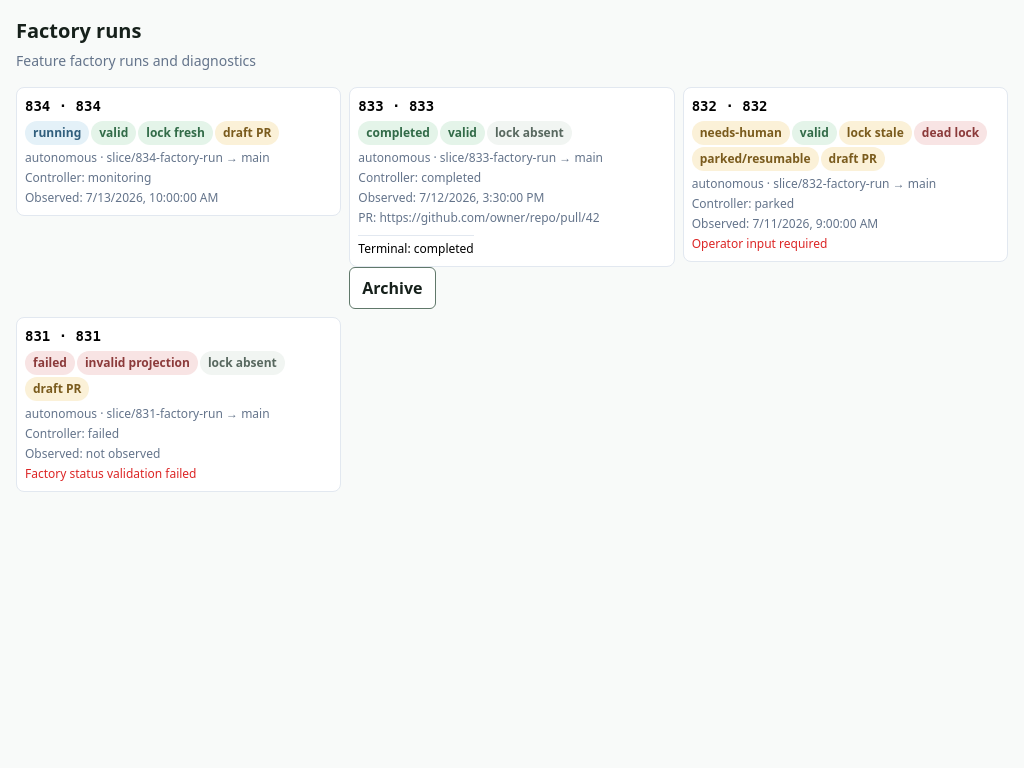
Test: FactoryRunsRoute › names the run in the archive dialog and cancels without a request
This screenshot has width=1024, height=768.
What coordinates should you click on to do the following:
click the button with aria-label "Archive run 833"
I would click on:
 (392, 288)
Its box is [349, 267, 436, 309].
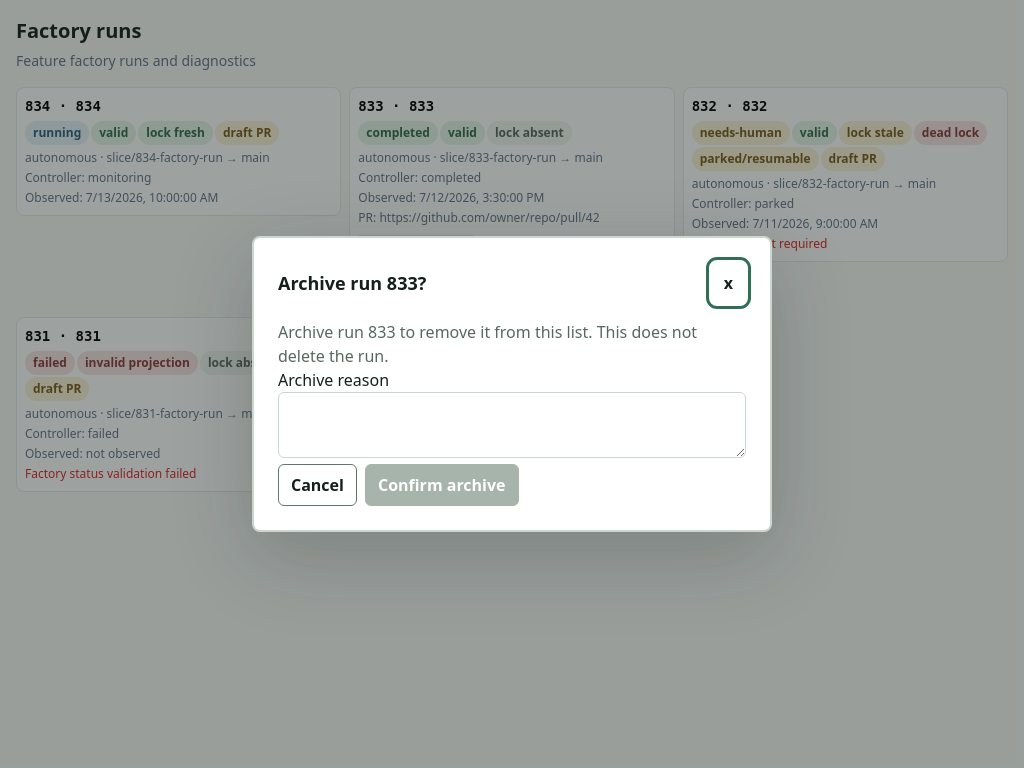
Now the text "does not delete the run" is shown, box [278, 321, 697, 367]
What coordinates should you click on to do the following:
click the button "Cancel"
I would click on:
 (317, 485)
Its box is [278, 464, 357, 506].
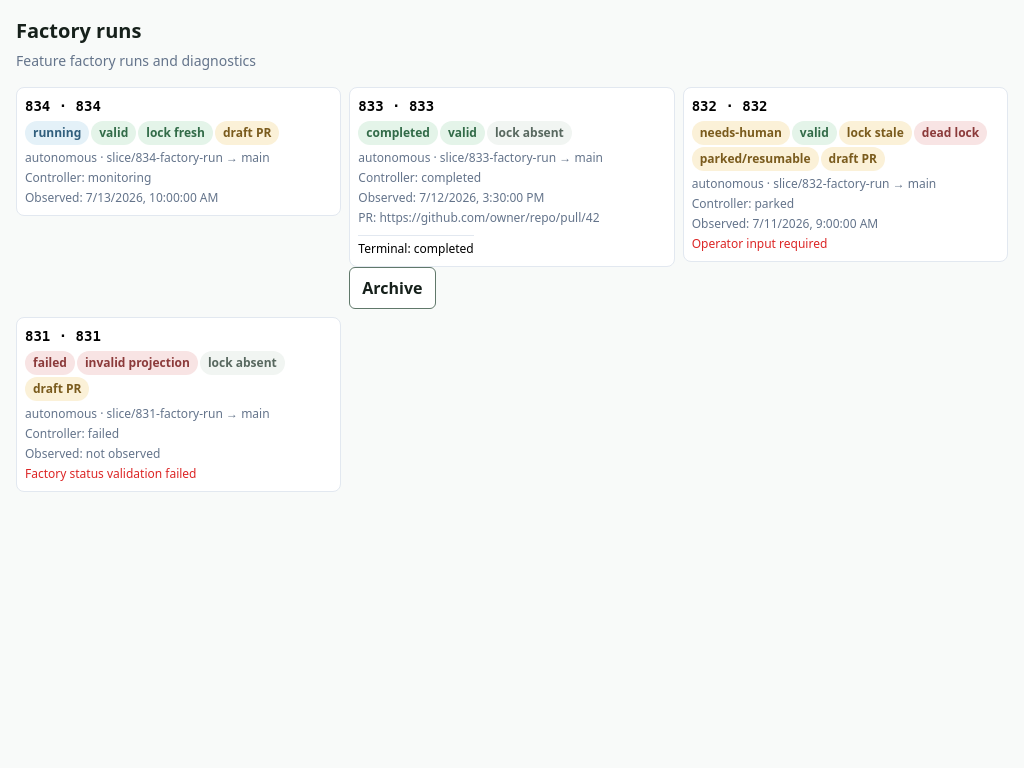
Expected: the button with test id "factory-run-833" is shown, [349, 87, 675, 267]
Now the dialog is gone
